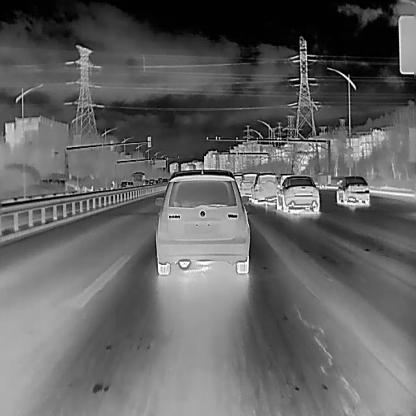bus: (131, 171, 145, 186)
car: (154, 168, 250, 274), (275, 174, 320, 214), (335, 174, 370, 206), (250, 172, 278, 203), (238, 170, 258, 196), (120, 180, 128, 188), (148, 179, 156, 186), (161, 177, 168, 185), (157, 177, 162, 182), (127, 180, 130, 187), (144, 180, 149, 184), (130, 181, 133, 187), (156, 180, 160, 184)
